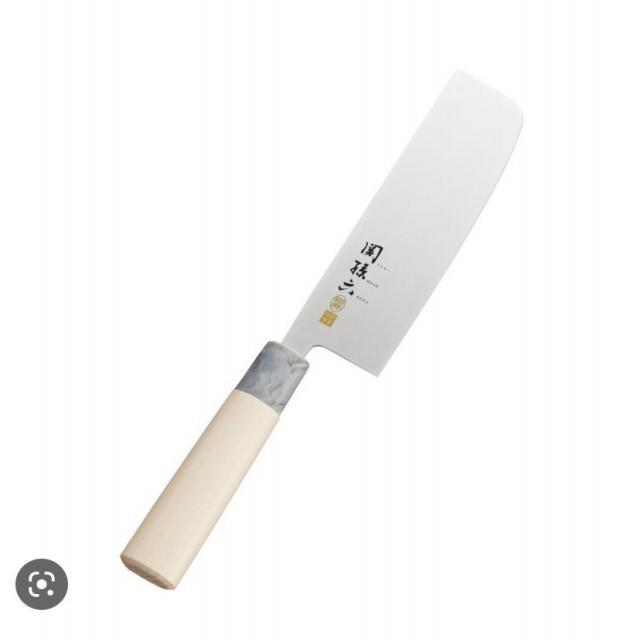Knife: (94, 58, 529, 596)
